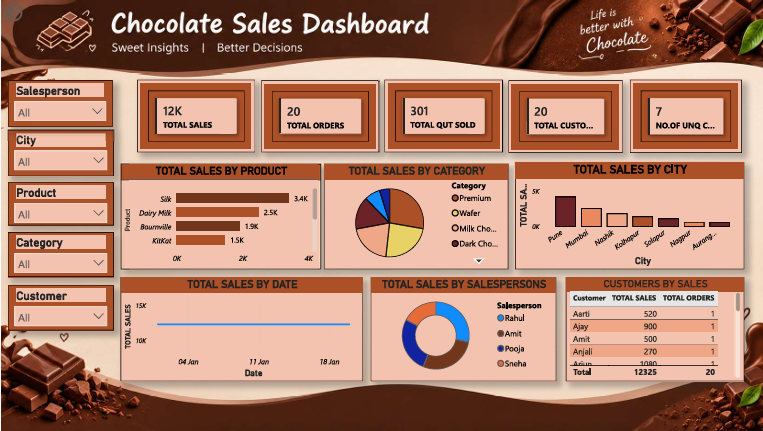

Layout of this report page (visuals, bound fields, positions):
{"tool":"powerbi","page":{"name":"CHOCOLATE SALES DASHBOARD","canvas":[1280,720],"ordinal":0},"visuals":[{"type":"image","box":[0,0,1280,720],"z":0},{"type":"cardVisual","fields":{"Data":["CHOCOLATE SALES DATA.TOTAL SALES"]},"box":[227.3,131.8,196.3,121],"z":1000},{"type":"cardVisual","fields":{"Data":["CHOCOLATE SALES DATA.TOTAL ORDERS"]},"box":[434.4,133.1,197.7,119.7],"z":2000},{"type":"cardVisual","fields":{"Data":["CHOCOLATE SALES DATA.TOTAL QUT SOLD"]},"box":[640.1,131.8,197.7,121],"z":3000},{"type":"cardVisual","fields":{"Data":["CHOCOLATE SALES DATA.TOTAL CUSTOMER"]},"box":[847.2,133.1,191,121],"z":4000},{"type":"cardVisual","fields":{"Data":["CHOCOLATE SALES DATA.NO.OF UNQ CITIES"]},"box":[1050.3,131.8,186.9,122.4],"z":5000},{"type":"barChart","title":"TOTAL SALES BY PRODUCT","fields":{"Category":["CHOCOLATE SALES DATA.Product"],"Y":["CHOCOLATE SALES DATA.TOTAL SALES"]},"box":[199,271.7,334.9,176.2],"z":6000},{"type":"slicer","fields":{"Values":["CHOCOLATE SALES DATA.City"]},"box":[10.8,215.2,177.5,78],"z":7000},{"type":"slicer","fields":{"Values":["CHOCOLATE SALES DATA.Product"]},"box":[10.8,302.6,177.5,72.6],"z":8000},{"type":"slicer","fields":{"Values":["CHOCOLATE SALES DATA.Category"]},"box":[10.8,386,177.5,75.3],"z":9000},{"type":"pieChart","title":"TOTAL SALES BY CATEGORY","fields":{"Category":["CHOCOLATE SALES DATA.Category"],"Y":["CHOCOLATE SALES DATA.TOTAL SALES"]},"box":[539.3,271.7,308,176.2],"z":10000},{"type":"clusteredColumnChart","title":"TOTAL SALES BY CITY","fields":{"Category":["CHOCOLATE SALES DATA.City"],"Y":["CHOCOLATE SALES DATA.TOTAL SALES"]},"box":[858,269,383.3,178.9],"z":11000},{"type":"slicer","fields":{"Values":["CHOCOLATE SALES DATA.Salesperson"]},"box":[10.8,133.1,174.8,76.7],"z":12000},{"type":"slicer","fields":{"Values":["CHOCOLATE SALES DATA.Customer"]},"box":[10.8,474.7,177.5,75.3],"z":13000},{"type":"lineChart","title":"TOTAL SALES BY DATE","fields":{"Category":["DATE_TABLE.Date"],"Y":["CHOCOLATE SALES DATA.TOTAL SALES"]},"box":[199,461.3,404.8,173.5],"z":14000},{"type":"donutChart","title":"TOTAL SALES BY SALESPERSONS","fields":{"Category":["CHOCOLATE SALES DATA.Salesperson"],"Y":["CHOCOLATE SALES DATA.TOTAL SALES"]},"box":[617.3,461.3,309.3,173.5],"z":15000},{"type":"tableEx","title":"CUSTOMERS BY SALES","fields":{"Values":["CHOCOLATE SALES DATA.Customer","CHOCOLATE SALES DATA.TOTAL SALES","CHOCOLATE SALES DATA.TOTAL ORDERS"]},"box":[942.7,461.3,298.6,173.5],"z":16000},{"type":"actionButton","box":[0,0,100,40],"z":17000}]}

Visuals, with their boxes in screenshot pixels (x1, y1, x2, y2), scaled from the page's 1280x720 canvas onto the 763x431 screenshot:
image: crop(0, 0, 762, 430)
cardVisual - CHOCOLATE SALES DATA.TOTAL SALES: crop(135, 79, 253, 151)
cardVisual - CHOCOLATE SALES DATA.TOTAL ORDERS: crop(259, 80, 377, 151)
cardVisual - CHOCOLATE SALES DATA.TOTAL QUT SOLD: crop(382, 79, 499, 151)
cardVisual - CHOCOLATE SALES DATA.TOTAL CUSTOMER: crop(505, 80, 619, 152)
cardVisual - CHOCOLATE SALES DATA.NO.OF UNQ CITIES: crop(626, 79, 737, 152)
"TOTAL SALES BY PRODUCT" barChart: crop(119, 163, 318, 268)
slicer - CHOCOLATE SALES DATA.City: crop(6, 129, 112, 176)
slicer - CHOCOLATE SALES DATA.Product: crop(6, 181, 112, 225)
slicer - CHOCOLATE SALES DATA.Category: crop(6, 231, 112, 276)
"TOTAL SALES BY CATEGORY" pieChart: crop(321, 163, 505, 268)
"TOTAL SALES BY CITY" clusteredColumnChart: crop(511, 161, 740, 268)
slicer - CHOCOLATE SALES DATA.Salesperson: crop(6, 80, 111, 126)
slicer - CHOCOLATE SALES DATA.Customer: crop(6, 284, 112, 329)
"TOTAL SALES BY DATE" lineChart: crop(119, 276, 360, 380)
"TOTAL SALES BY SALESPERSONS" donutChart: crop(368, 276, 552, 380)
"CUSTOMERS BY SALES" tableEx: crop(562, 276, 740, 380)
actionButton: crop(0, 0, 60, 24)
